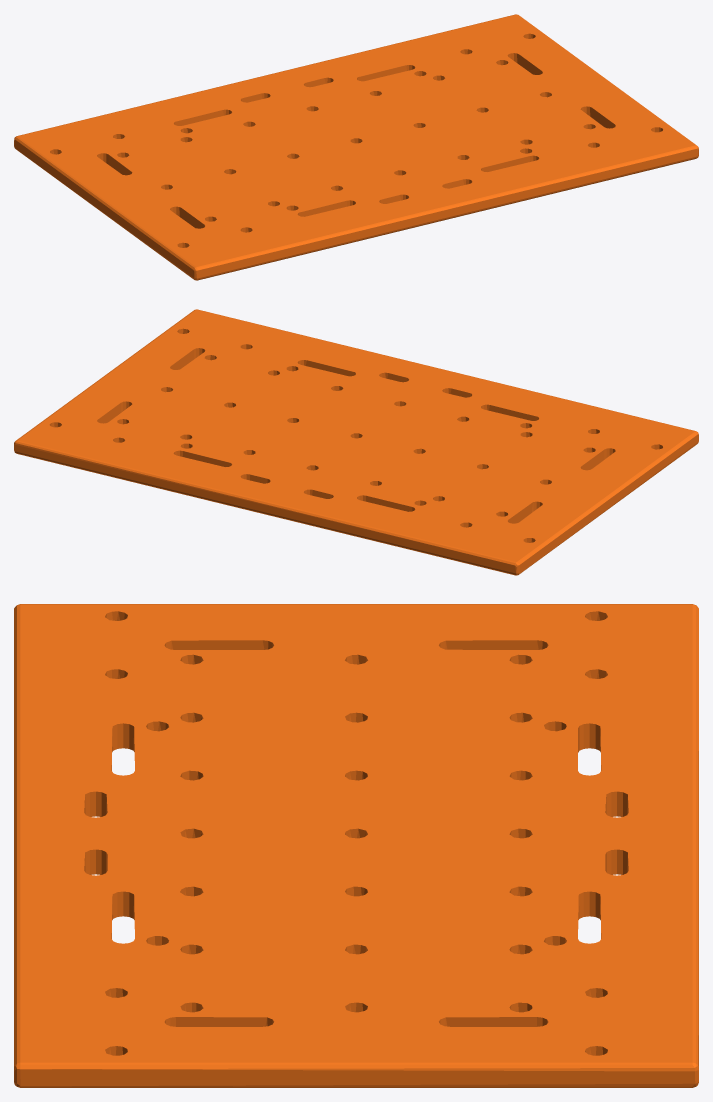
The model's file is chassis.glb.
The picture shows the model from 3 angles, top to bottom: view 1: azimuth 30°, elevation 25°; view 2: azimuth 150°, elevation 25°; view 3: azimuth 270°, elevation 25°; orthographic projection. The views are drawn at different scales.
Visible parts, largest first — view 1: print_chassis_base; view 2: print_chassis_base; view 3: print_chassis_base.
Boxes of the visible parts, <box> form: print_chassis_base: <box>14,14,698,280</box>; print_chassis_base: <box>14,309,698,575</box>; print_chassis_base: <box>14,604,698,1087</box>.
Size of the model in its own units: 1.6 by 0.04 by 0.9989.
